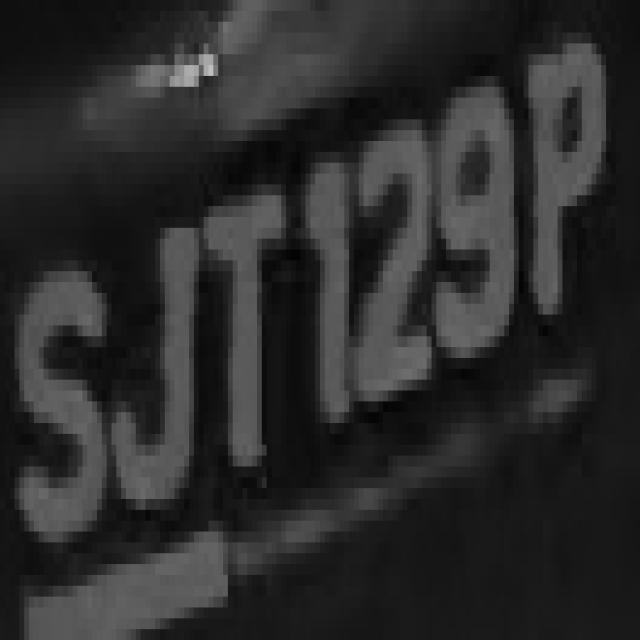1: (281, 163, 369, 466)
2: (354, 119, 436, 423)
9: (417, 54, 519, 402)
J: (122, 217, 214, 521)
P: (509, 22, 626, 380)
S: (20, 260, 121, 586)
T: (194, 174, 291, 499)
